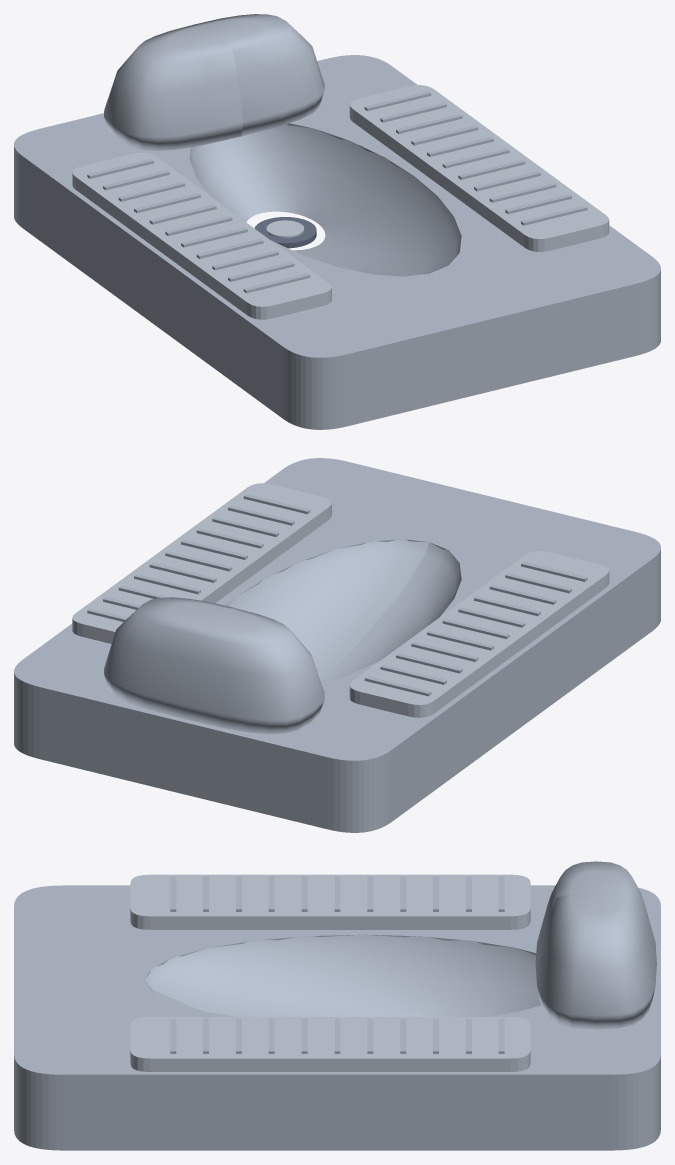
The model's file is squattoilet-lite.glb.
3 renders of one model, top to bottom at view 1: azimuth 30°, elevation 25°; view 2: azimuth 150°, elevation 25°; view 3: azimuth 270°, elevation 25°, orthographic. The views are drawn at different scales.
Visible parts, largest first — view 1: squattoilet; view 2: squattoilet; view 3: squattoilet.
Part boxes in pixels (<box>): squattoilet: <box>14,14,660,429</box>; squattoilet: <box>14,458,660,832</box>; squattoilet: <box>14,861,660,1150</box>.
Bounding box in the file's own units: 0.45 × 0.18 × 0.65.
